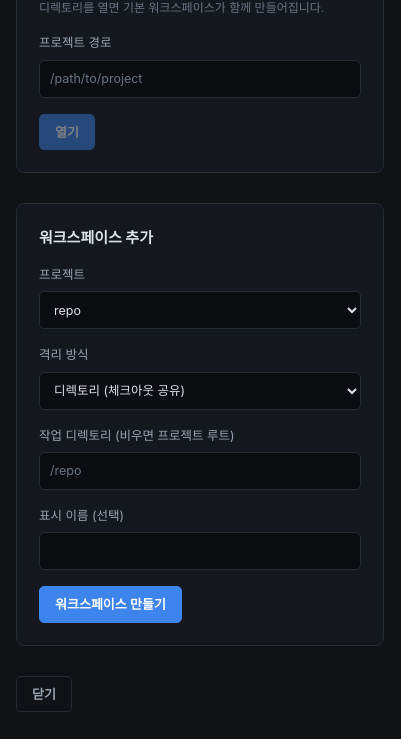
it: WorkspaceCreate (WBS 5.6.2) › 실패 사유를 표시한다
(page scrolled)
Click the button with test id "create-workspace".
click(110, 604)  # box [39,586,182,622]
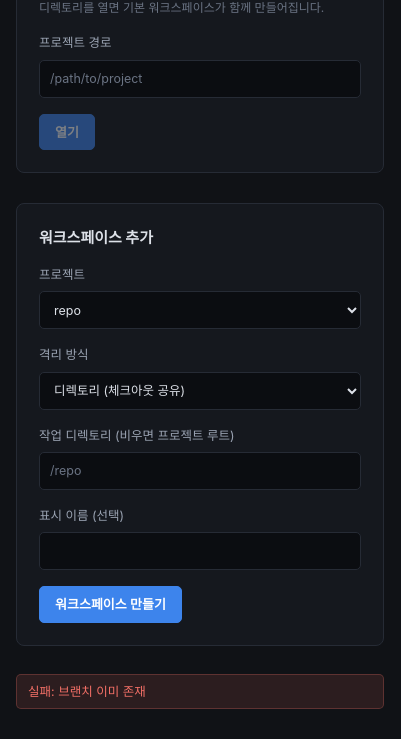
Expected: the text with test id "workspace-create-error" shows "브랜치 이미 존재", [58,684,146,698]
